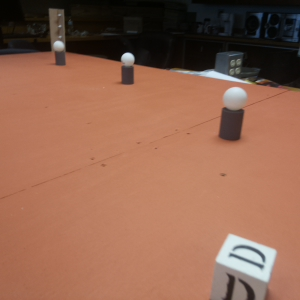blockD: (212, 236, 275, 300)
corner: (48, 7, 67, 45)
obstacle: (221, 88, 245, 141), (120, 52, 135, 84), (54, 41, 66, 64)
